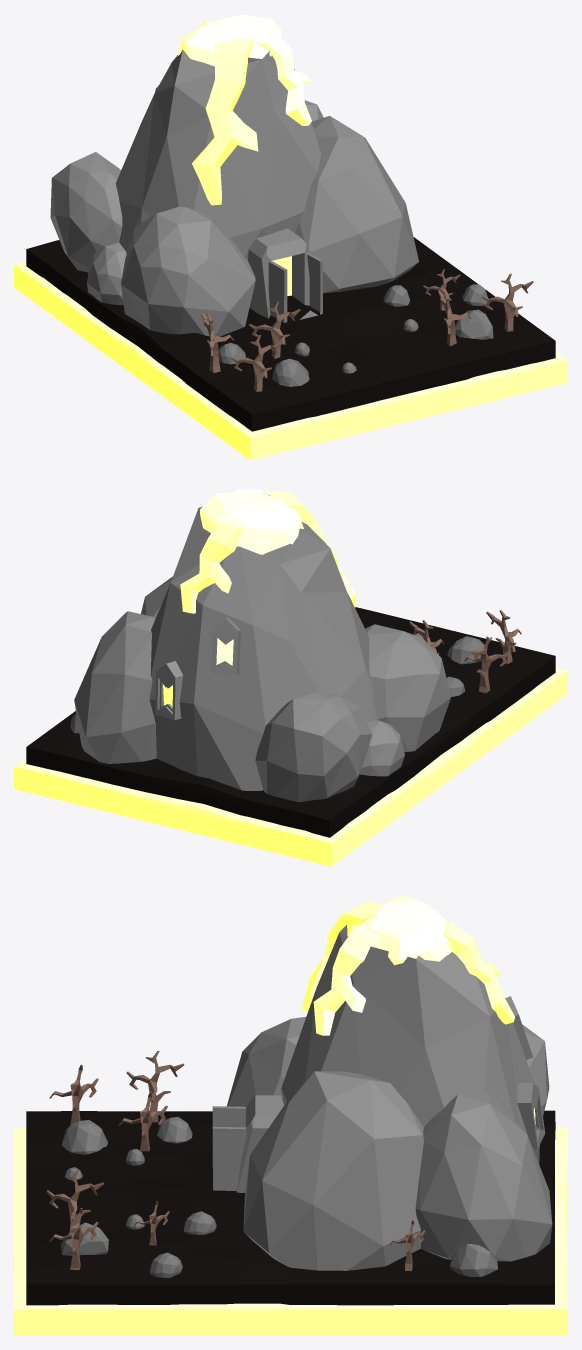
File: Volcanic.fbx
3 views of the same model, one above another, from view 1: azimuth 30°, elevation 25°; view 2: azimuth 150°, elevation 25°; view 3: azimuth 270°, elevation 25° (orthographic). The views are drawn at different scales.
Parts seen in each view (by area): view 1: Icosphere.003, Cube, Cube.003, Plane.001, Cube.001, Plane.007, Icosphere.011, Icosphere.008, Plane; view 2: Icosphere.003, Cube, Cube.003, Icosphere.008, Plane.002, Plane.007, Cube.004, Cube.005, Icosphere.011, Plane.001; view 3: Icosphere.003, Cube, Cube.003, Icosphere.011, Plane.007, Cube.001, Icosphere.008, Plane, Plane.002, Plane.001, Cube.004.
Boxes of the visible parts, x1=… form: Icosphere.003: x1=50, y1=49, x2=418, y2=336; Cube: x1=26, y1=237, x2=555, y2=431; Cube.003: x1=14, y1=261, x2=567, y2=460; Plane.001: x1=192, y1=38, x2=258, y2=205; Cube.001: x1=248, y1=228, x2=322, y2=322; Plane.007: x1=201, y1=269, x2=533, y2=392; Icosphere.011: x1=218, y1=284, x2=493, y2=386; Icosphere.008: x1=178, y1=14, x2=281, y2=66; Plane: x1=256, y1=30, x2=311, y2=125; Icosphere.003: x1=74, y1=495, x2=450, y2=801; Cube: x1=26, y1=607, x2=555, y2=837; Cube.003: x1=14, y1=668, x2=567, y2=866; Icosphere.008: x1=200, y1=491, x2=303, y2=554; Plane.002: x1=180, y1=521, x2=242, y2=613; Plane.007: x1=409, y1=610, x2=521, y2=693; Cube.004: x1=155, y1=661, x2=183, y2=720; Cube.005: x1=210, y1=617, x2=240, y2=675; Icosphere.011: x1=70, y1=633, x2=486, y2=733; Plane.001: x1=266, y1=490, x2=355, y2=607; Icosphere.003: x1=227, y1=925, x2=552, y2=1270; Cube: x1=26, y1=1110, x2=555, y2=1305; Cube.003: x1=14, y1=1127, x2=567, y2=1335; Icosphere.011: x1=60, y1=1117, x2=497, y2=1277; Plane.007: x1=46, y1=1051, x2=425, y2=1271; Cube.001: x1=212, y1=1095, x2=284, y2=1192; Icosphere.008: x1=347, y1=895, x2=451, y2=965; Plane: x1=313, y1=925, x2=381, y2=1035; Plane.002: x1=443, y1=922, x2=514, y2=1024; Plane.001: x1=301, y1=902, x2=383, y2=1012; Cube.004: x1=517, y1=1083, x2=545, y2=1148.
Size of the model in its own units: 802 by 671 by 1034.
